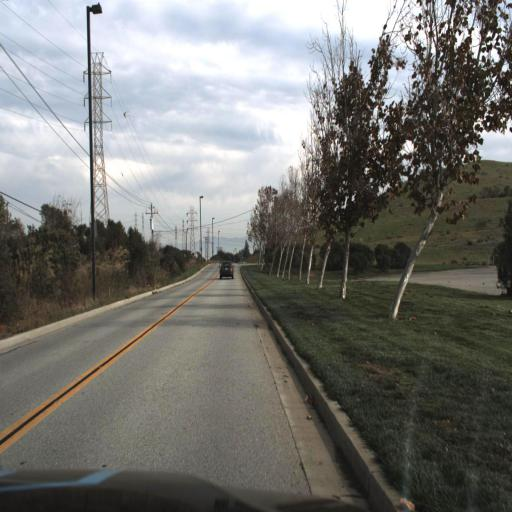car: (215, 254, 239, 288)
